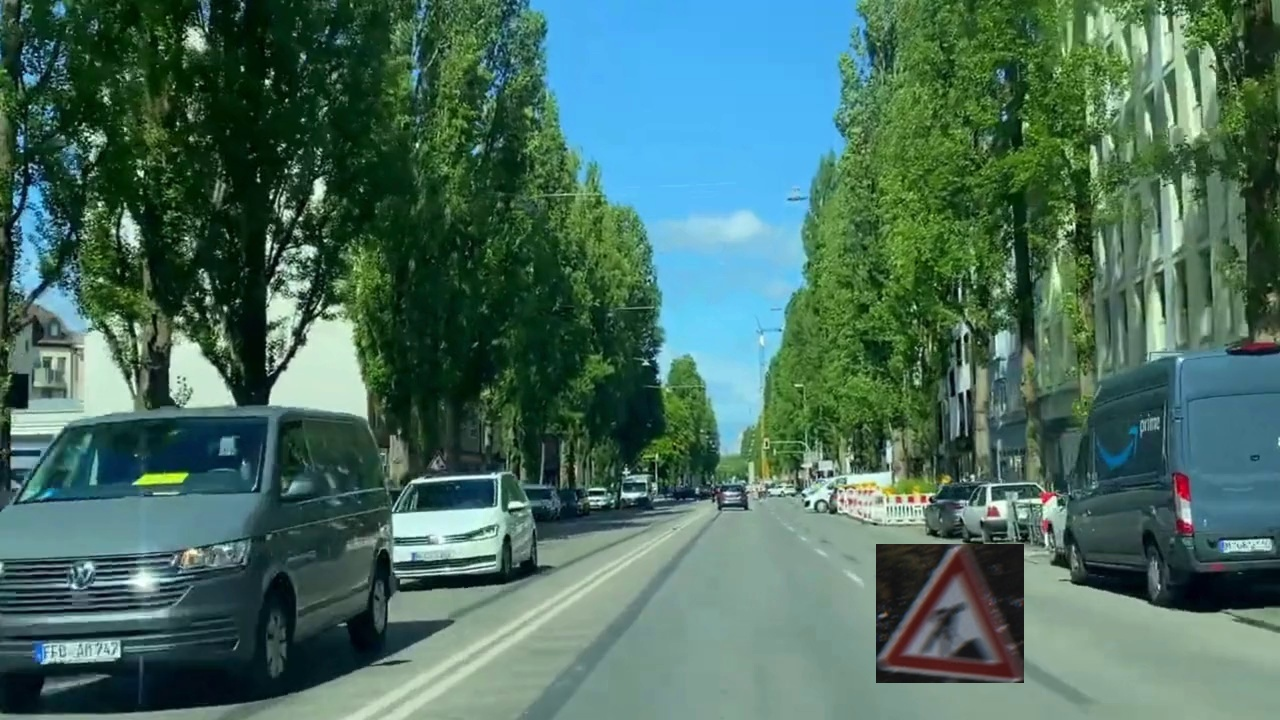Road work: (876, 544, 1024, 683)
